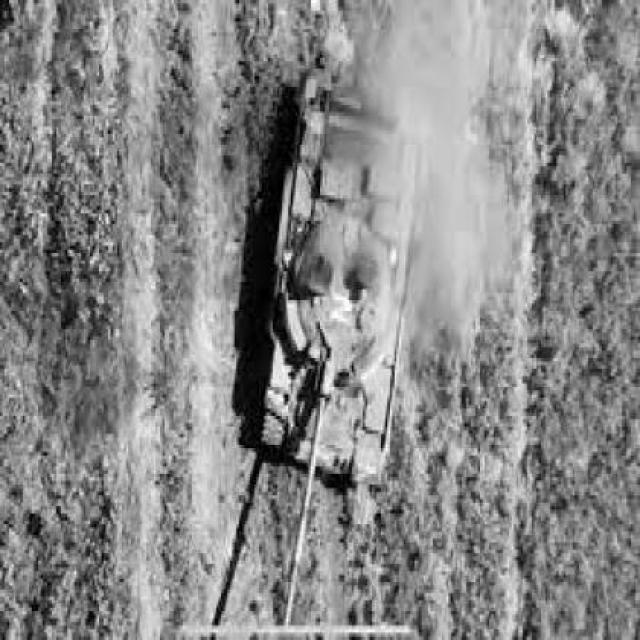tank: (259, 68, 409, 640)
